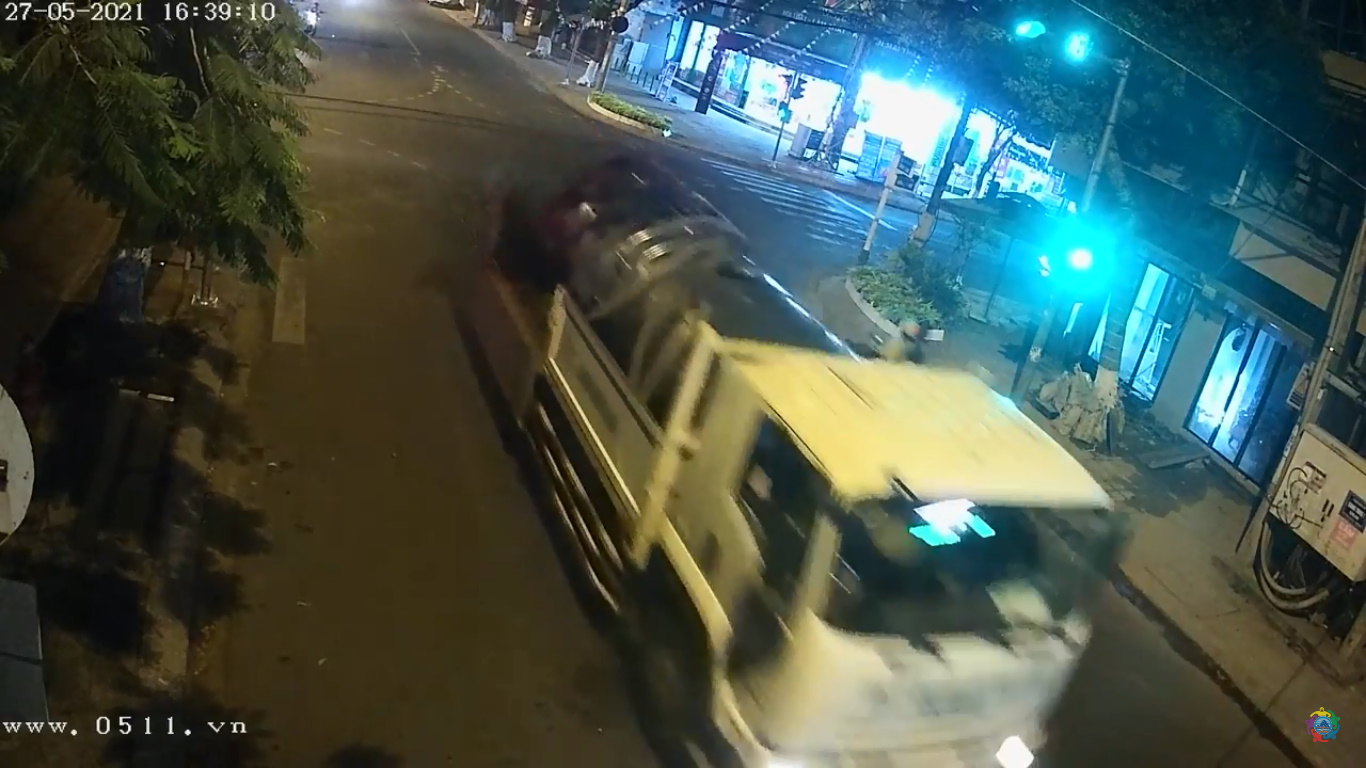truck: (457, 144, 1129, 768)
